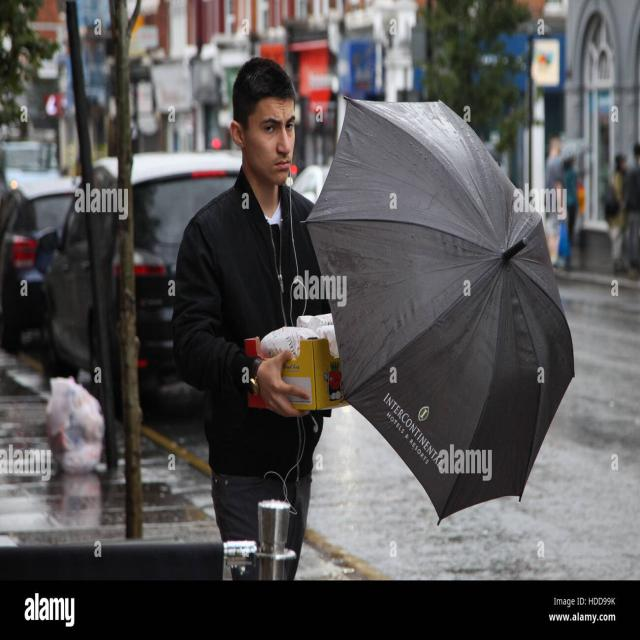Car: (27, 154, 269, 411), (0, 180, 77, 349), (1, 138, 56, 177)
Walking: (198, 53, 368, 576)
human: (248, 100, 298, 186), (608, 154, 628, 275), (562, 156, 580, 268)
loitering: (544, 136, 565, 267), (621, 143, 640, 274)
